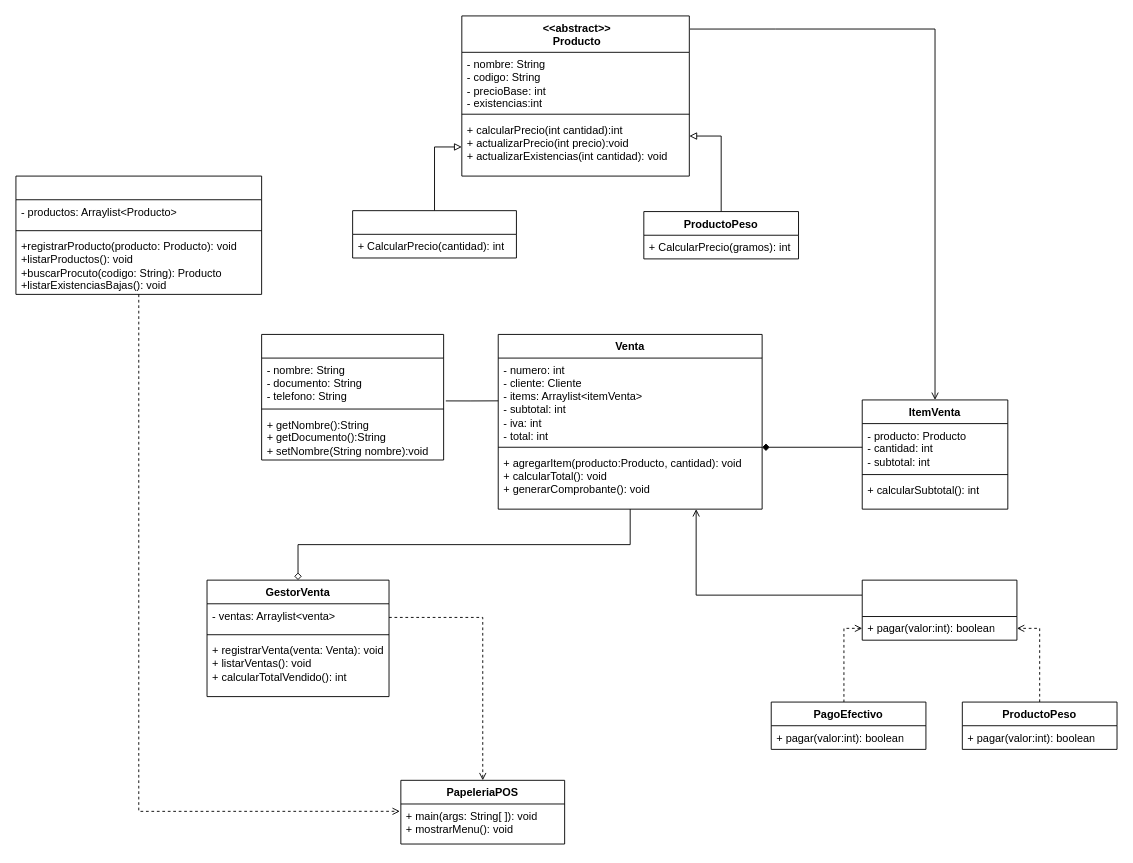
The diagram is 1133 pixels wide and 863 high, and some of its shapes have lost their labels. Here are the shapes that lost their labels. From the top down, the box of each, then its label:
(15, 175, 262, 294): Catalogo
(352, 210, 516, 258): ProductoUnidad
(261, 334, 444, 460): Cliente
(861, 579, 1017, 640): <<interface>> MetodoPago
